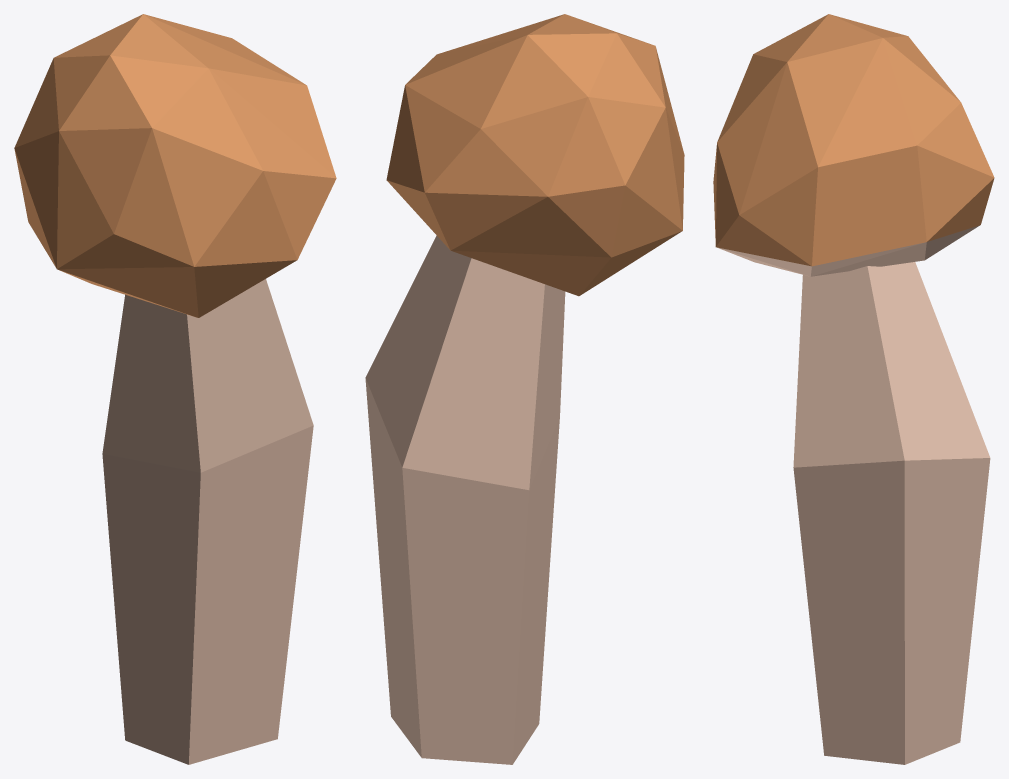
The model's file is Mushroom_f_05.fbx.
3 renders of one model, left to right at view 1: azimuth 30°, elevation 25°; view 2: azimuth 150°, elevation 25°; view 3: azimuth 270°, elevation 25°, orthographic. The views are drawn at different scales.
Parts seen in each view (by area): view 1: Mushroom_f_05; view 2: Mushroom_f_05; view 3: Mushroom_f_05.
Boxes of the visible parts, x1,y1,x2,y2 form: Mushroom_f_05: (14,14,336,764); Mushroom_f_05: (365,14,684,764); Mushroom_f_05: (713,14,994,764).
Size of the model in its own units: 0.0824 by 0.2091 by 0.0781.
